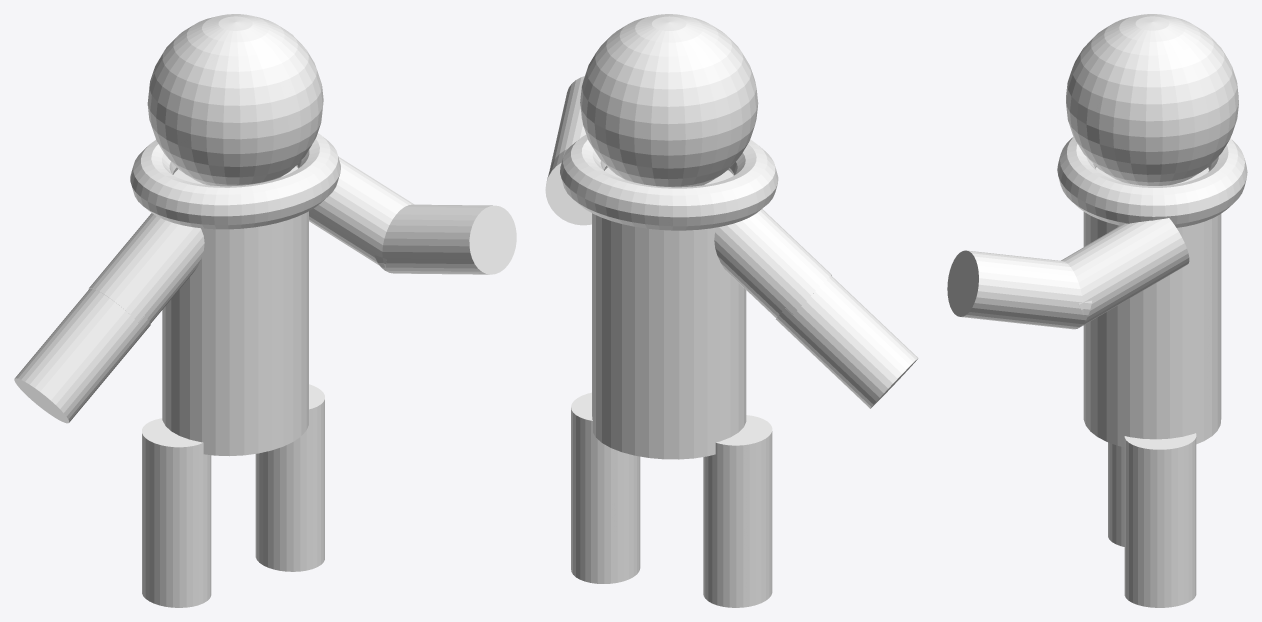
File: hito2.obj
The picture shows the model from 3 angles, left to right: view 1: azimuth 30°, elevation 25°; view 2: azimuth 150°, elevation 25°; view 3: azimuth 270°, elevation 25°; orthographic projection. The views are drawn at different scales.
Visible parts, largest first — view 1: 円柱, 球_球.001, トーラス, 円柱.002, 円柱.011_円柱.013, 円柱.009_円柱.011, 円柱.008_円柱.009, 円柱.004_円柱.008, 円柱.006, 円柱.010_円柱.012, 円柱.003; view 2: 円柱, 球_球.001, トーラス, 円柱.002, 円柱.009_円柱.011, 円柱.008_円柱.009, 円柱.006, 円柱.004_円柱.008, 円柱.003, 円柱.010_円柱.012, 円柱.011_円柱.013; view 3: 球_球.001, 円柱, トーラス, 円柱.011_円柱.013, 円柱.010_円柱.012, 円柱.003, 円柱.006, 円柱.004_円柱.008.
Boxes of the visible parts, x1=… form: 円柱: x1=162, y1=166, x2=308, y2=456; 球_球.001: x1=147, y1=14, x2=323, y2=186; トーラス: x1=130, y1=133, x2=340, y2=229; 円柱.002: x1=14, y1=288, x2=150, y2=423; 円柱.011_円柱.013: x1=374, y1=204, x2=516, y2=274; 円柱.009_円柱.011: x1=88, y1=213, x2=204, y2=323; 円柱.008_円柱.009: x1=142, y1=418, x2=211, y2=527; 円柱.004_円柱.008: x1=142, y1=514, x2=211, y2=607; 円柱.006: x1=255, y1=478, x2=324, y2=571; 円柱.010_円柱.012: x1=309, y1=156, x2=414, y2=267; 円柱.003: x1=255, y1=384, x2=324, y2=492; 円柱: x1=592, y1=167, x2=746, y2=459; 球_球.001: x1=580, y1=14, x2=758, y2=187; トーラス: x1=560, y1=135, x2=778, y2=230; 円柱.002: x1=775, y1=276, x2=918, y2=408; 円柱.009_円柱.011: x1=714, y1=209, x2=831, y2=317; 円柱.008_円柱.009: x1=703, y1=415, x2=772, y2=527; 円柱.006: x1=571, y1=488, x2=640, y2=583; 円柱.004_円柱.008: x1=703, y1=513, x2=772, y2=607; 円柱.003: x1=571, y1=392, x2=640, y2=503; 円柱.010_円柱.012: x1=545, y1=149, x2=591, y2=225; 円柱.011_円柱.013: x1=550, y1=76, x2=586, y2=168; 球_球.001: x1=1066, y1=14, x2=1238, y2=185; 円柱: x1=1083, y1=167, x2=1221, y2=447; トーラス: x1=1057, y1=137, x2=1247, y2=227; 円柱.011_円柱.013: x1=947, y1=250, x2=1091, y2=329; 円柱.010_円柱.012: x1=1061, y1=218, x2=1189, y2=326; 円柱.003: x1=1124, y1=433, x2=1196, y2=529; 円柱.006: x1=1124, y1=517, x2=1196, y2=607; 円柱.004_円柱.008: x1=1108, y1=458, x2=1124, y2=546.
Size of the model in its own units: 5.47 by 6.91 by 3.46.
1 material, 1 textured.
